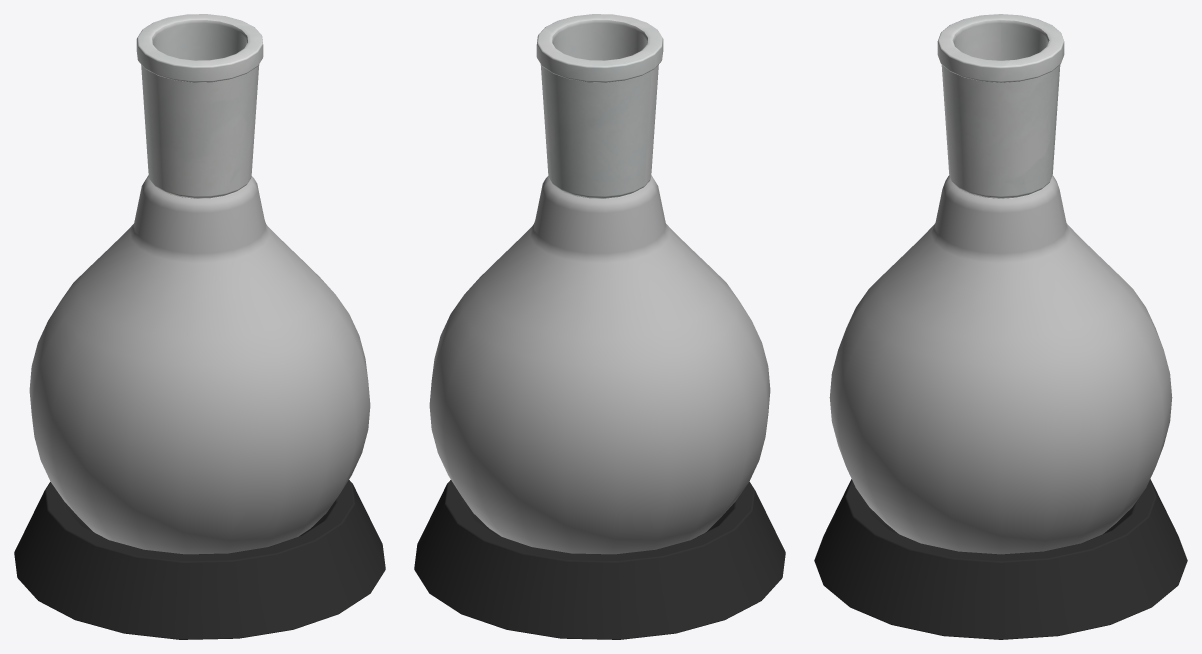
File: round_bottom_flasks.glb
The picture shows the model from 3 angles, left to right: view 1: azimuth 30°, elevation 25°; view 2: azimuth 150°, elevation 25°; view 3: azimuth 270°, elevation 25°; orthographic projection.
Parts seen in each view (by area): view 1: BalaoFundoRedondo_1Boca, BalaoFundoRedondo_3Bocas.003; view 2: BalaoFundoRedondo_1Boca, BalaoFundoRedondo_3Bocas.003; view 3: BalaoFundoRedondo_1Boca, BalaoFundoRedondo_3Bocas.003.
Part boxes in pixels (x1=…): BalaoFundoRedondo_1Boca: x1=29, y1=14, x2=370, y2=554; BalaoFundoRedondo_3Bocas.003: x1=14, y1=480, x2=385, y2=639; BalaoFundoRedondo_1Boca: x1=429, y1=14, x2=770, y2=554; BalaoFundoRedondo_3Bocas.003: x1=414, y1=480, x2=785, y2=639; BalaoFundoRedondo_1Boca: x1=829, y1=14, x2=1172, y2=554; BalaoFundoRedondo_3Bocas.003: x1=814, y1=479, x2=1187, y2=639.
Bounding box in the file's own units: 0.1087 × 0.1677 × 0.1087.
Materials: 3 (3 with a texture image).
